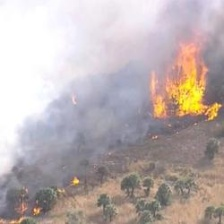fire: (159, 60, 207, 113)
smoke: (1, 4, 112, 164)
